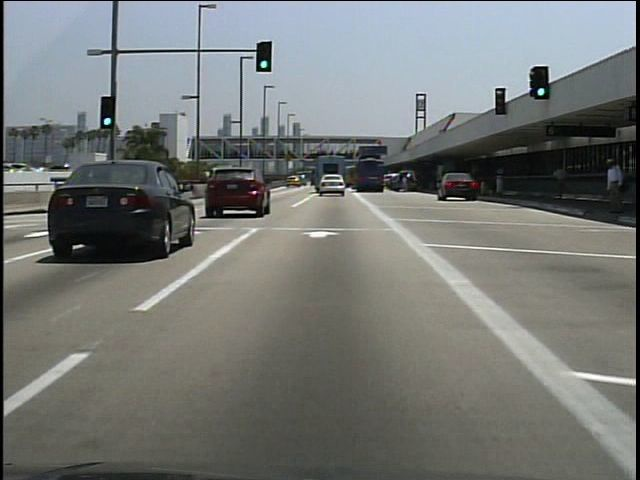person: (603, 151, 627, 218), (548, 158, 568, 206)
